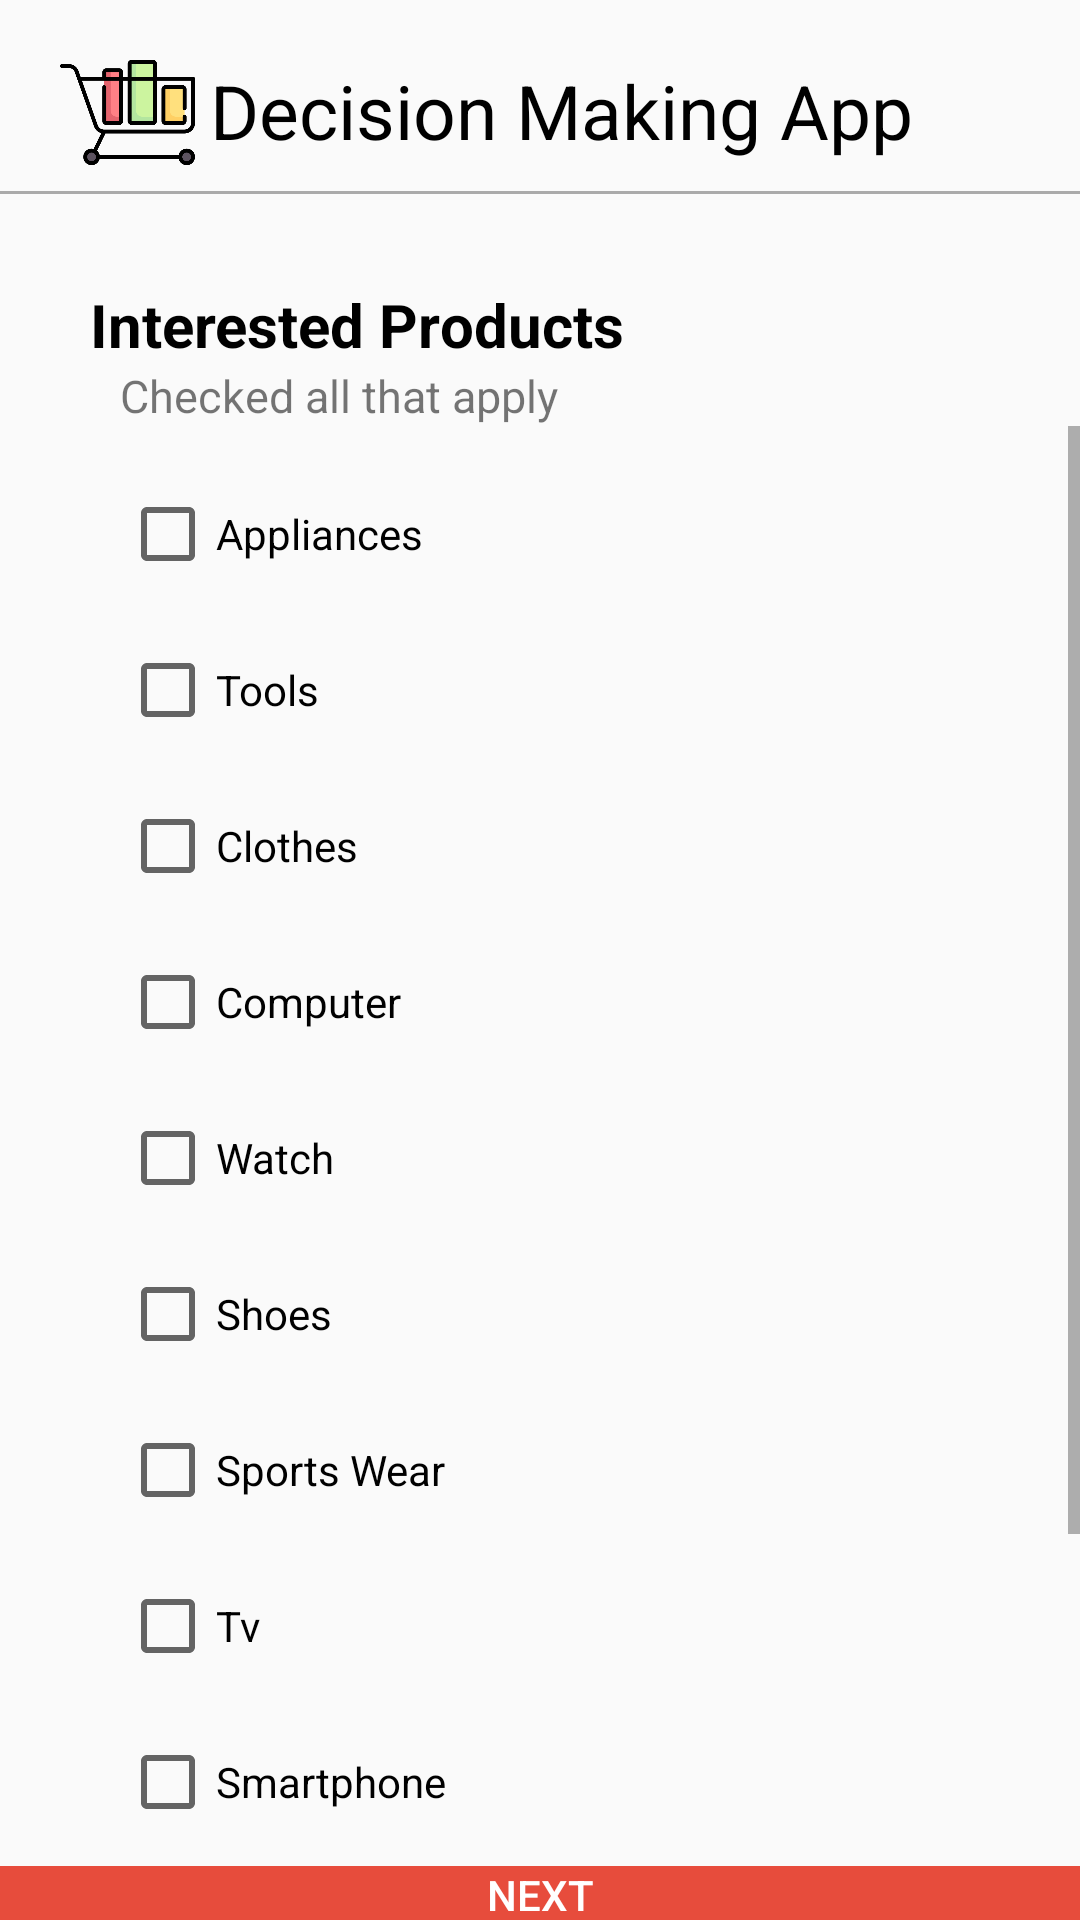

Where to tap for icons on this 1080 x 1920 app screen, as point (x, y):
shoppingcart: point (127, 112)
